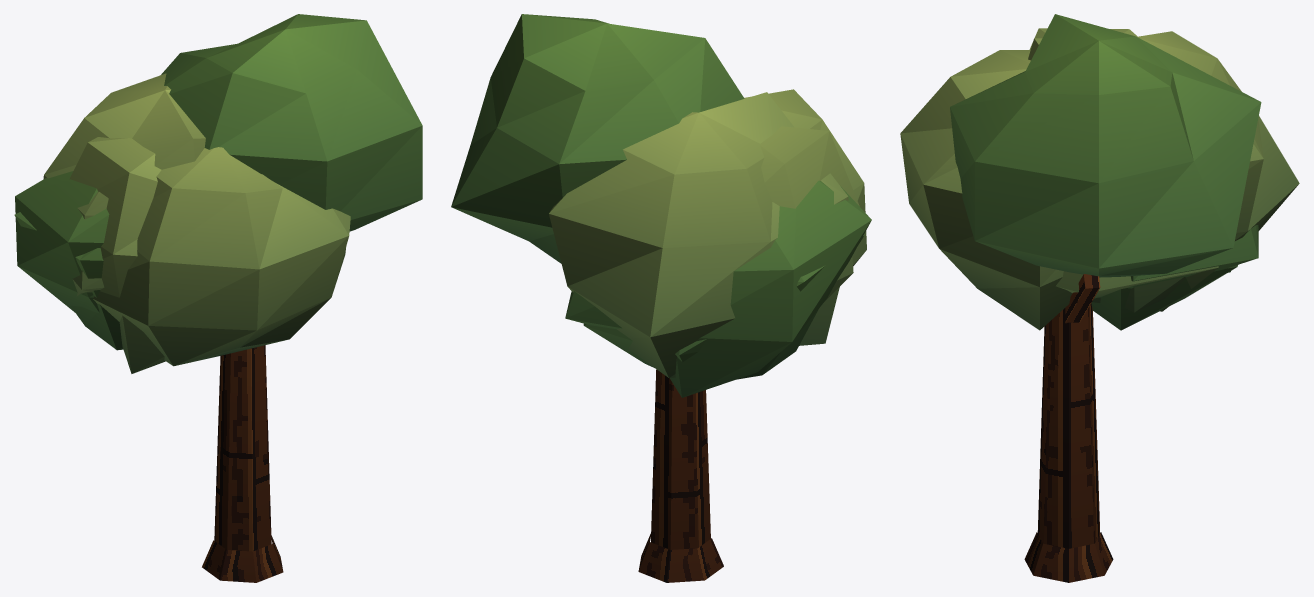
Rendered from apple_2_lowpoly.glb.
3 renders of one model, left to right at view 1: azimuth 30°, elevation 25°; view 2: azimuth 150°, elevation 25°; view 3: azimuth 270°, elevation 25°, orthographic. The views are drawn at different scales.
Parts seen in each view (by area): view 1: apple_2_lowpoly; view 2: apple_2_lowpoly; view 3: apple_2_lowpoly.
Boxes of the visible parts, box(x1,y1,x2,y2) form: apple_2_lowpoly: box(14, 14, 422, 582); apple_2_lowpoly: box(451, 14, 871, 582); apple_2_lowpoly: box(900, 14, 1299, 582).
Bounding box in the file's own units: 3.58 × 4.81 × 3.15.
2 materials, 1 textured.
